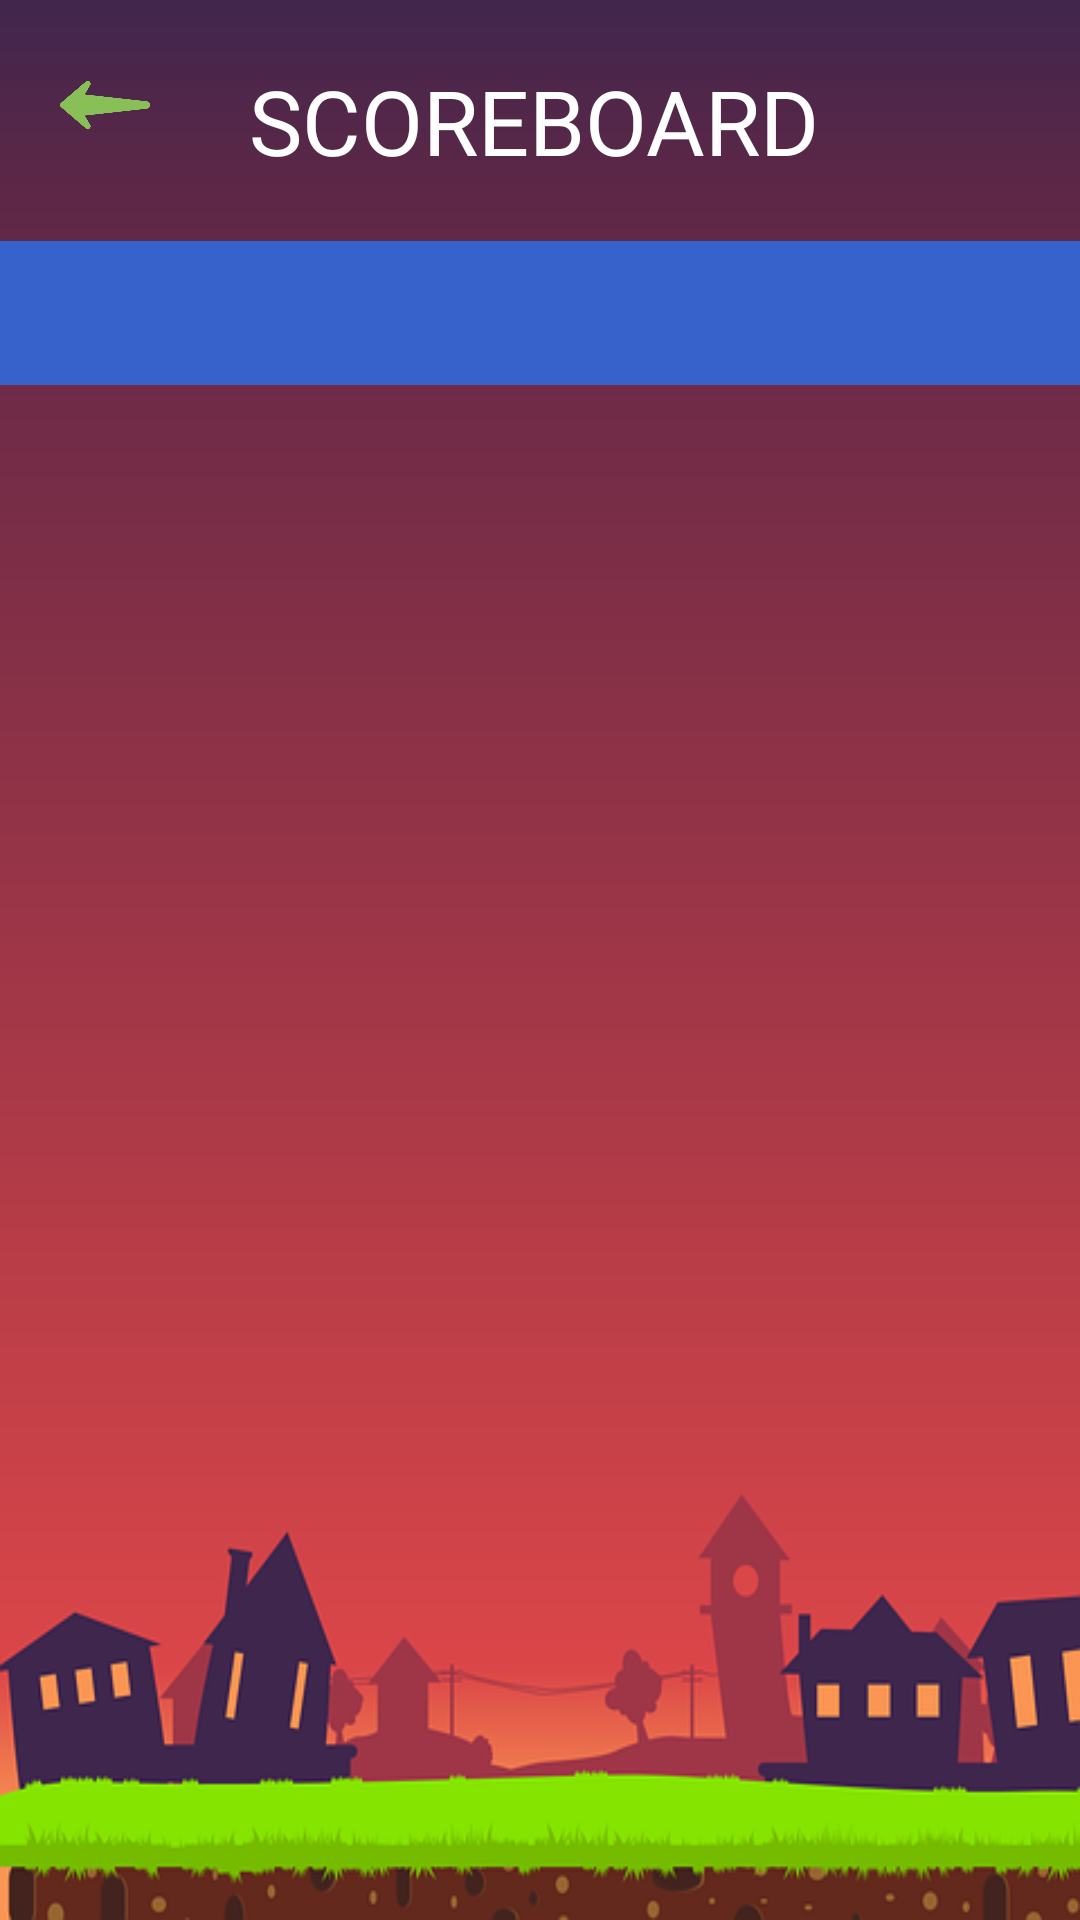

Screen size 1080x1920. Icon name, then its box in pixels as [x1,y1,x2,y2]:
arrow back: [60,81,150,129]
